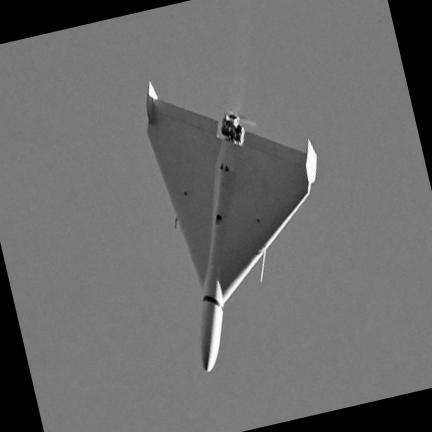Shahed: (146, 83, 316, 372)
